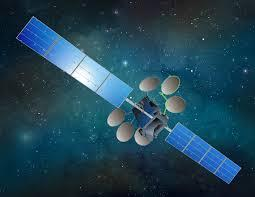antenna: (115, 121, 137, 144), (164, 94, 188, 115), (160, 74, 182, 96), (133, 127, 156, 148), (138, 75, 162, 93), (107, 107, 127, 128)
body: (132, 94, 169, 137)
solar: (14, 14, 135, 111), (164, 121, 244, 187)
